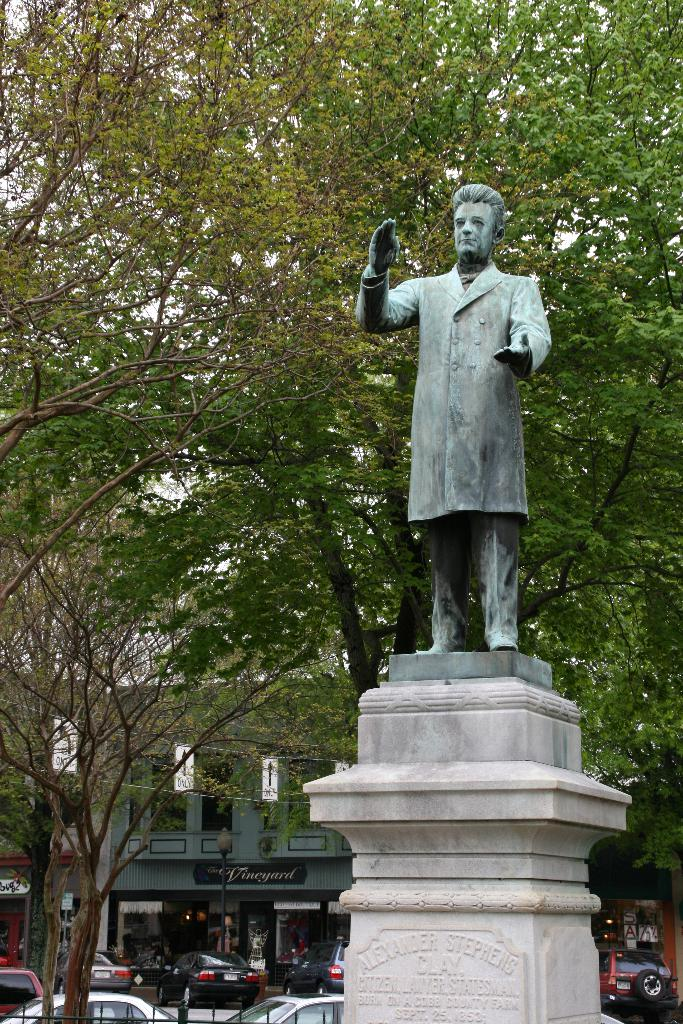Car: (596, 948, 678, 1018), (0, 992, 178, 1023), (158, 960, 263, 1011), (218, 993, 344, 1023), (281, 938, 344, 993), (51, 953, 133, 995), (0, 966, 44, 1016), (0, 940, 18, 966)
